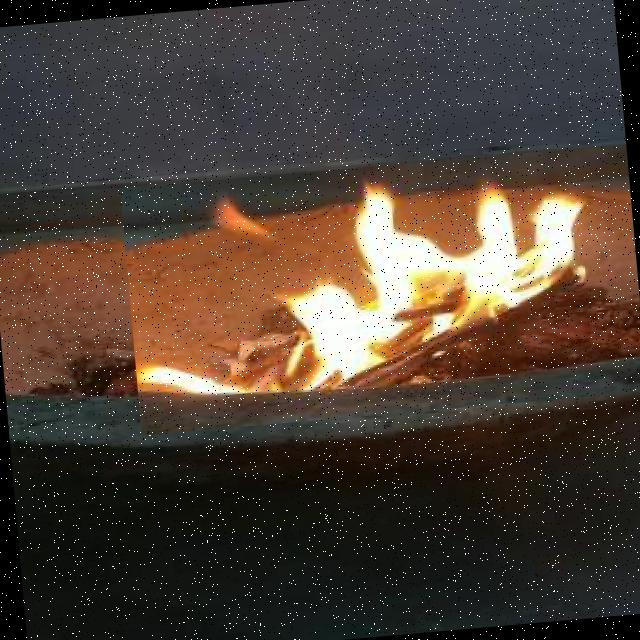fire: (119, 144, 640, 435)
